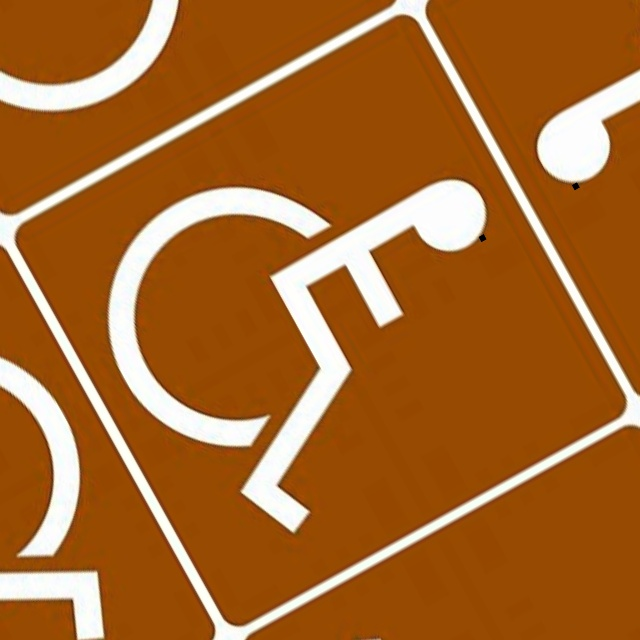ISA: (59, 69, 583, 572), (469, 0, 640, 344), (0, 298, 170, 640), (286, 479, 640, 640), (0, 0, 354, 159)
